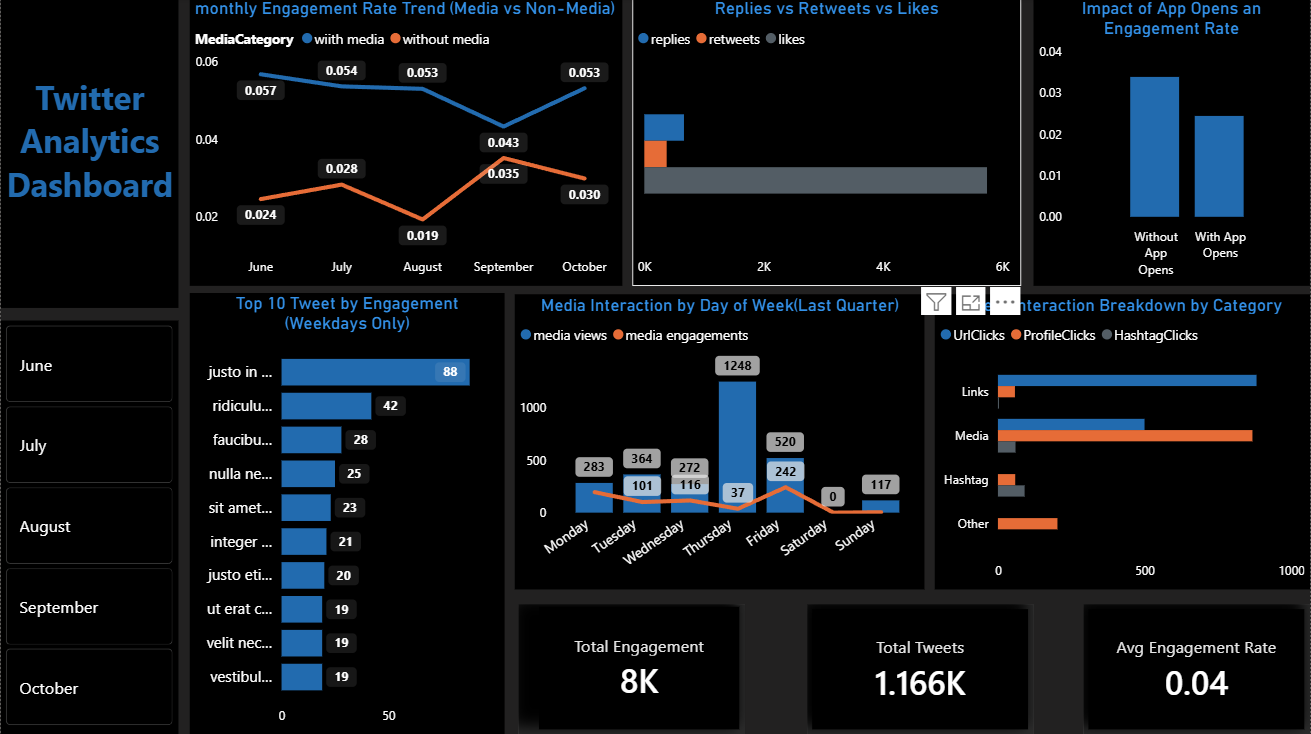

What the dashboard file says about the page in this screenshot:
{"tool":"powerbi","page":{"name":"Page 1","canvas":[1280,720],"ordinal":0},"visuals":[{"type":"clusteredBarChart","title":"Tweet Interaction Breakdown by Category","fields":{"Category":["SocialMedia.TweetCategory"],"Y":["SocialMedia.UrlClicks","SocialMedia.ProfileClicks","SocialMedia.HashtagClicks"]},"box":[913.5,289.8,366.8,288.6],"z":0},{"type":"textbox","box":[0,0,173.6,303.3],"z":1000},{"type":"clusteredColumnChart","title":"Impact of App Opens an Engagement Rate","fields":{"Category":["SocialMedia.AppOpenCategory"],"Y":["Avg(SocialMedia.engagement rate)"]},"box":[1010.1,0,270.2,281.3],"z":2000},{"type":"lineClusteredColumnComboChart","title":"Media Interaction by Day of Week(Last Quarter)","fields":{"Y":["Sum(SocialMedia.media views)"],"Y2":["Sum(SocialMedia.media engagements)"],"Category":["SocialMedia.DayName3"]},"box":[502.6,289.8,401.1,288.6],"z":3000},{"type":"clusteredBarChart","title":"Replies vs Retweets vs Likes","fields":{"Y":["Sum(SocialMedia.replies)","Sum(SocialMedia.retweets)","Sum(SocialMedia.likes)"]},"box":[617.5,0,380.3,281.3],"z":4000},{"type":"lineChart","title":"monthly Engagement Rate Trend (Media vs Non-Media)","fields":{"Y":["Avg(SocialMedia.engagement rate)"],"Series":["SocialMedia.MediaCategory5"],"Category":["SocialMedia.Month"]},"box":[184.6,0,423.1,281.3],"z":5000},{"type":"clusteredBarChart","title":"Top 10 Tweet by Engagement (Weekdays Only)","fields":{"Y":["SocialMedia.TotalEnagement6"],"Category":["SocialMedia.Tweet"]},"box":[184.6,288.6,308.2,431.7],"z":6000},{"type":"cardVisual","title":"Total Engagement","fields":{"Data":["SocialMedia.TotalEnagement6"]},"box":[506.3,593.1,221.3,127.2],"z":7000},{"type":"cardVisual","fields":{"Data":["CountNonNull(SocialMedia.Tweet)"]},"box":[788.7,593.1,221.3,127.2],"z":8000},{"type":"cardVisual","fields":{"Data":["Avg(SocialMedia.engagement rate)"]},"box":[1059,593.1,221.3,127.2],"z":9000},{"type":"advancedSlicerVisual","fields":{"Values":["SocialMedia.Month"]},"box":[0,315.5,173.6,404.8],"z":9001}]}

Visuals, with their boxes in screenshot pixels (x1, y1, x2, y2), scaled from the page's 1280x720 canvas onto the 1311x734 screenshot:
"Tweet Interaction Breakdown by Category" clusteredBarChart: [936, 295, 1310, 590]
textbox: [0, 0, 178, 309]
"Impact of App Opens an Engagement Rate" clusteredColumnChart: [1035, 0, 1310, 287]
"Media Interaction by Day of Week(Last Quarter)" lineClusteredColumnComboChart: [515, 295, 926, 590]
"Replies vs Retweets vs Likes" clusteredBarChart: [632, 0, 1022, 287]
"monthly Engagement Rate Trend (Media vs Non-Media)" lineChart: [189, 0, 622, 287]
"Top 10 Tweet by Engagement (Weekdays Only)" clusteredBarChart: [189, 294, 505, 733]
"Total Engagement" cardVisual: [519, 605, 745, 733]
cardVisual - CountNonNull(SocialMedia.Tweet): [808, 605, 1034, 733]
cardVisual - Avg(SocialMedia.engagement rate): [1085, 605, 1310, 733]
advancedSlicerVisual - SocialMedia.Month: [0, 322, 178, 733]
